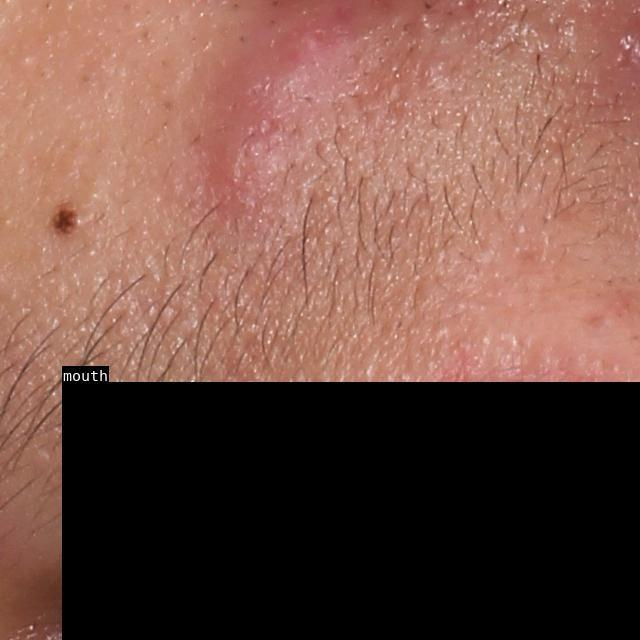nevus: (46, 202, 90, 238)
